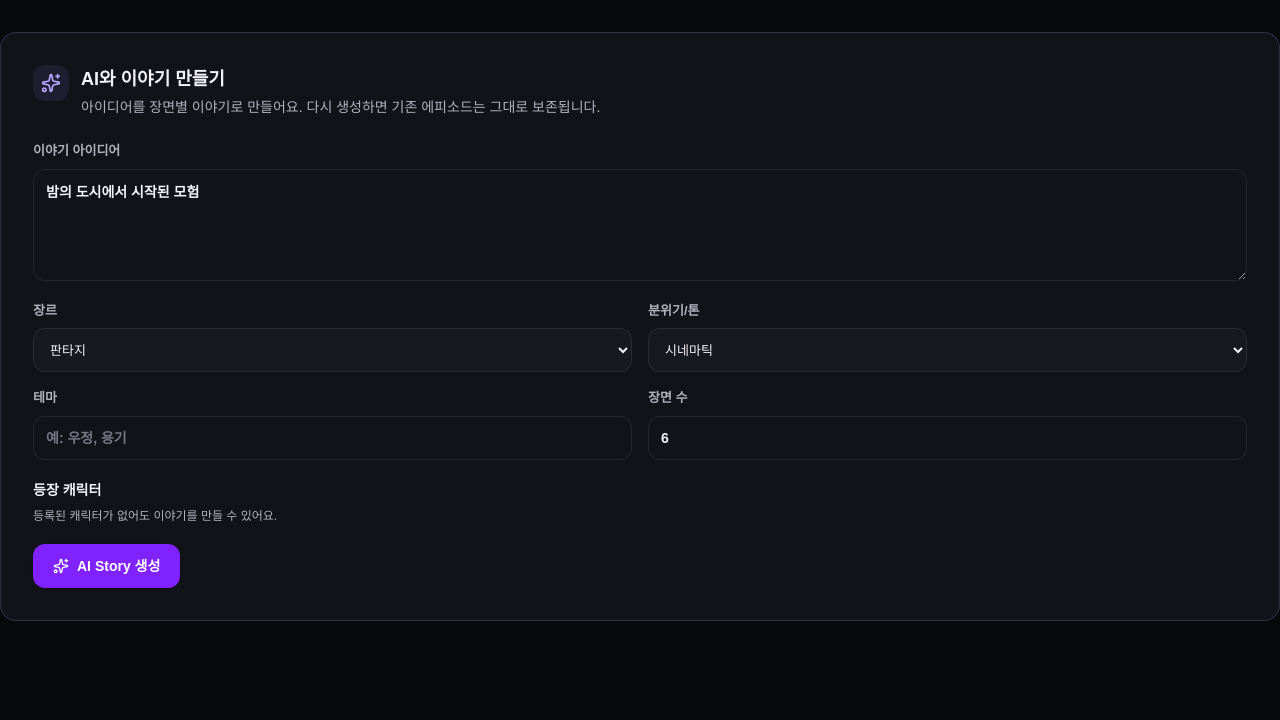
it: StoryStudio › shows a safe daily quota message for HTTP 429
The image size is (1280, 720).
Click the button "AI Story 생성".
click(107, 566)  # box [33, 544, 180, 588]
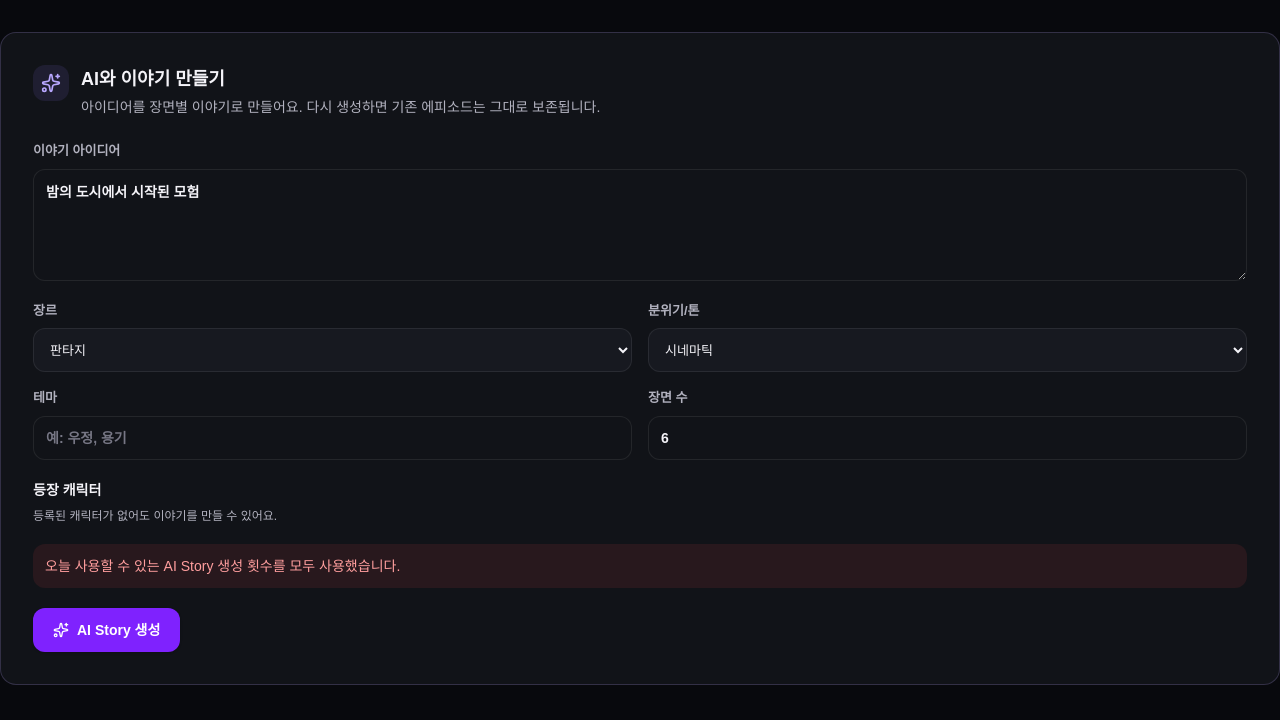
Check: the text "오늘 사용할 수 있는 AI Story 생성 횟수를 모두 사용했습니다." is shown, box [33, 544, 1247, 588]
